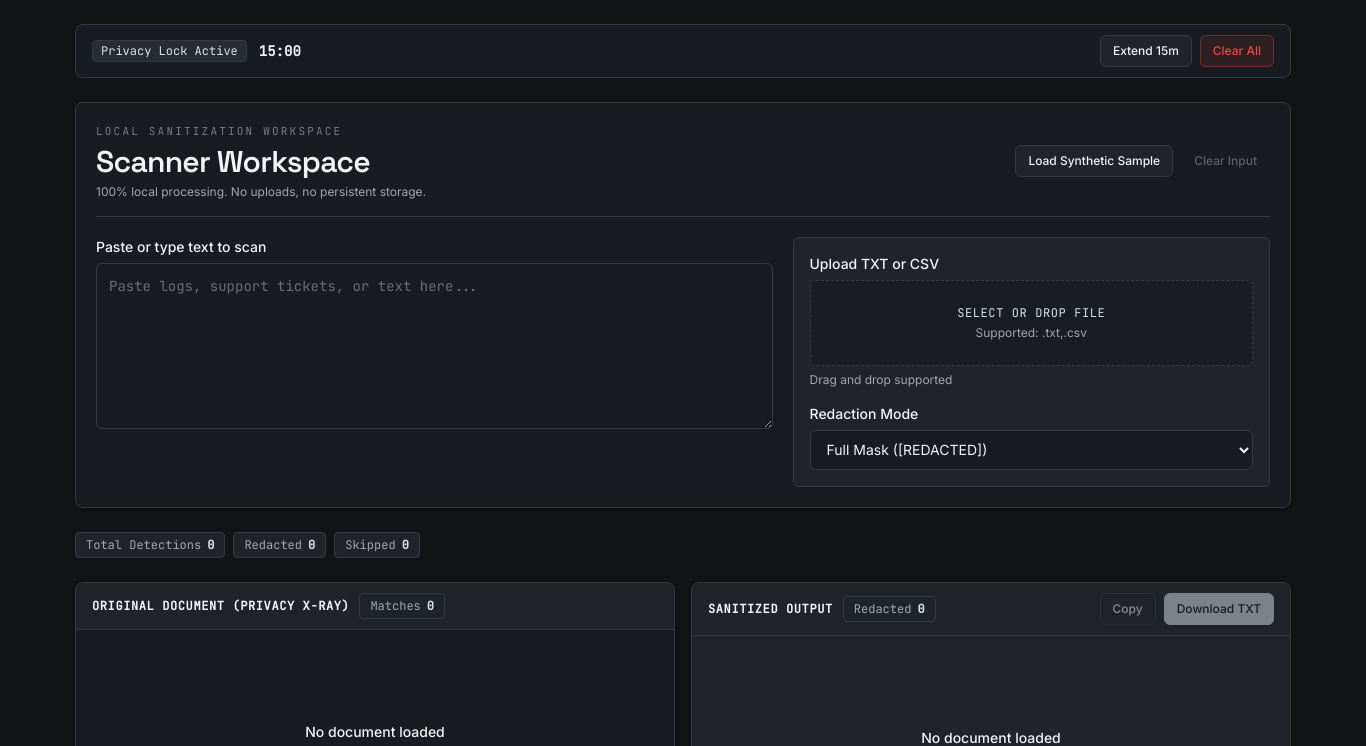
Test: Phase 3 ScannerWorkspace › supports Deselect All and individual Reject/Accept controls
Step 1. Click the button "Load Synthetic Sample" → x=1094, y=161, box [1015, 145, 1173, 177]
(page scrolled)
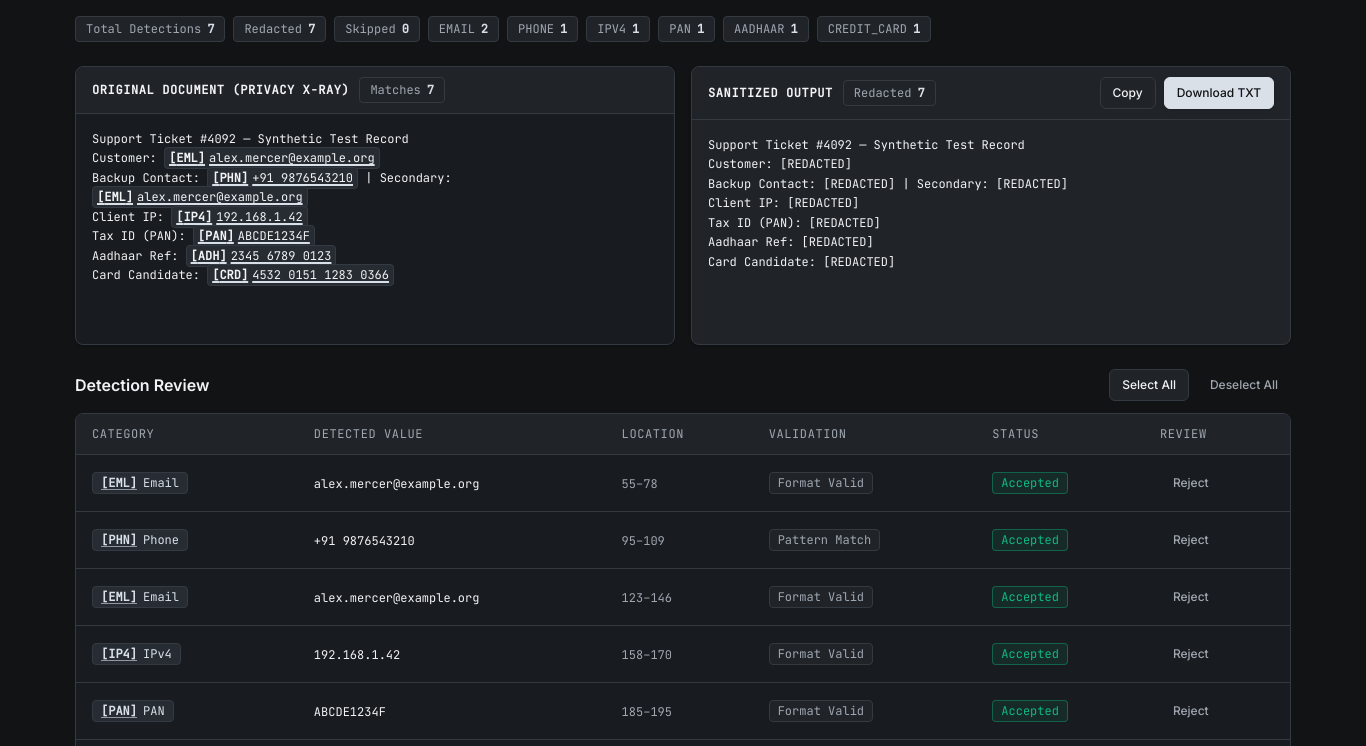
Step 2. Click the button "Deselect All" → x=1244, y=384, box [1197, 368, 1291, 400]
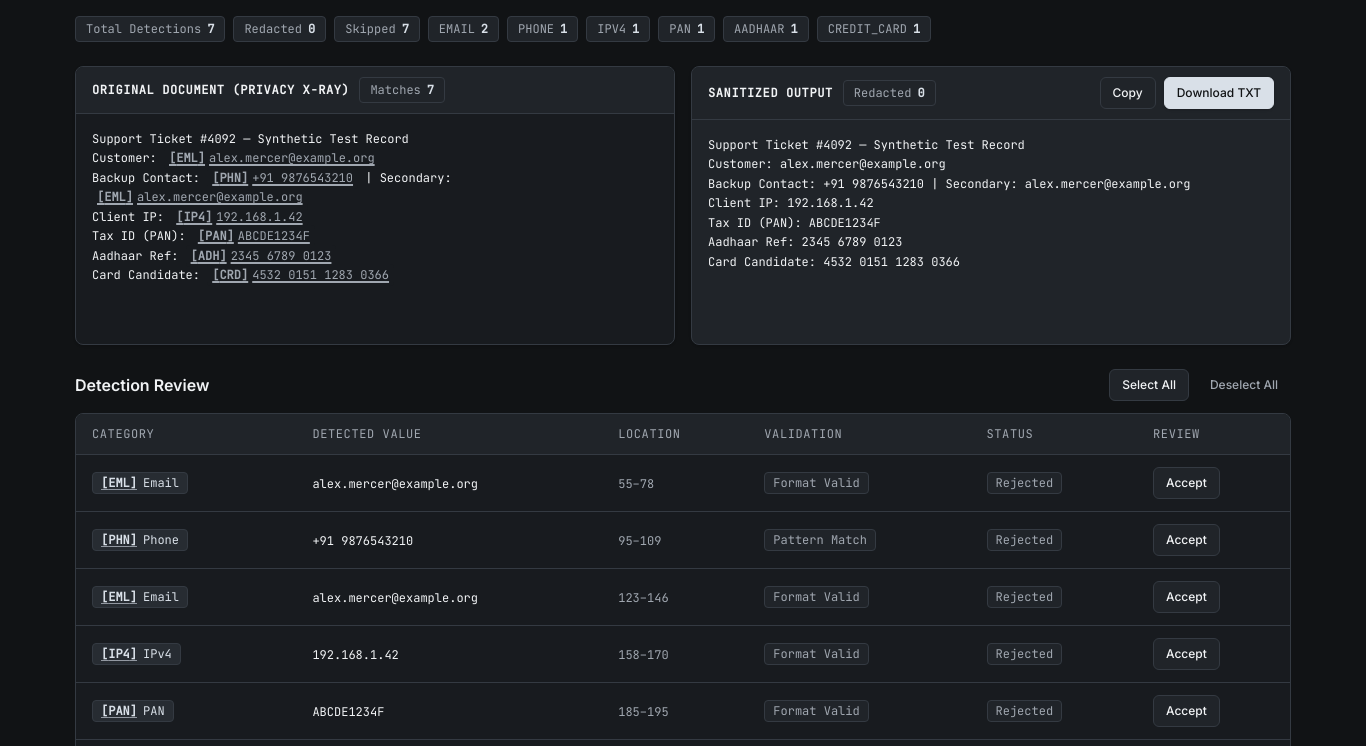
Now the element named "Redacted: 0" is shown, box [233, 16, 326, 42]
Step 3. Click the button "Select All" → x=1149, y=384, box [1109, 368, 1189, 400]
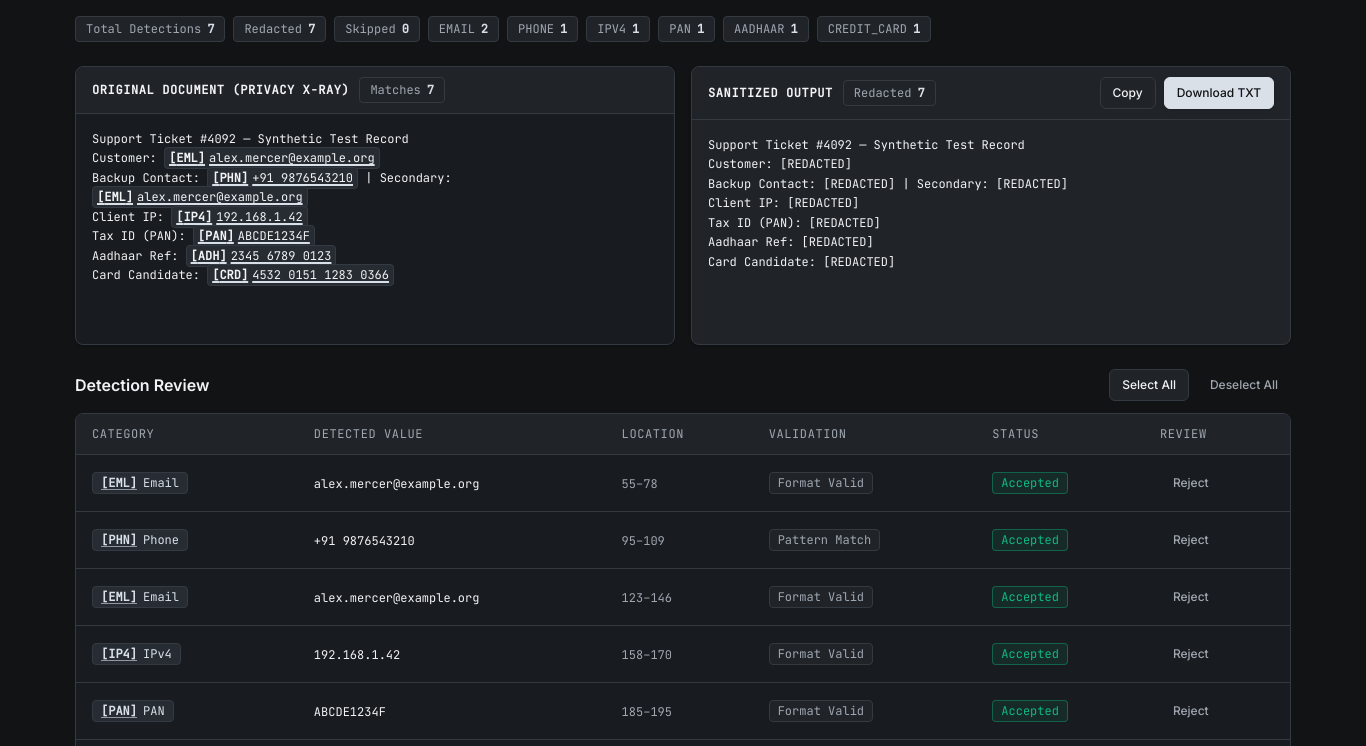
Now the element named "Redacted: 7" is shown, box [233, 16, 326, 42]
